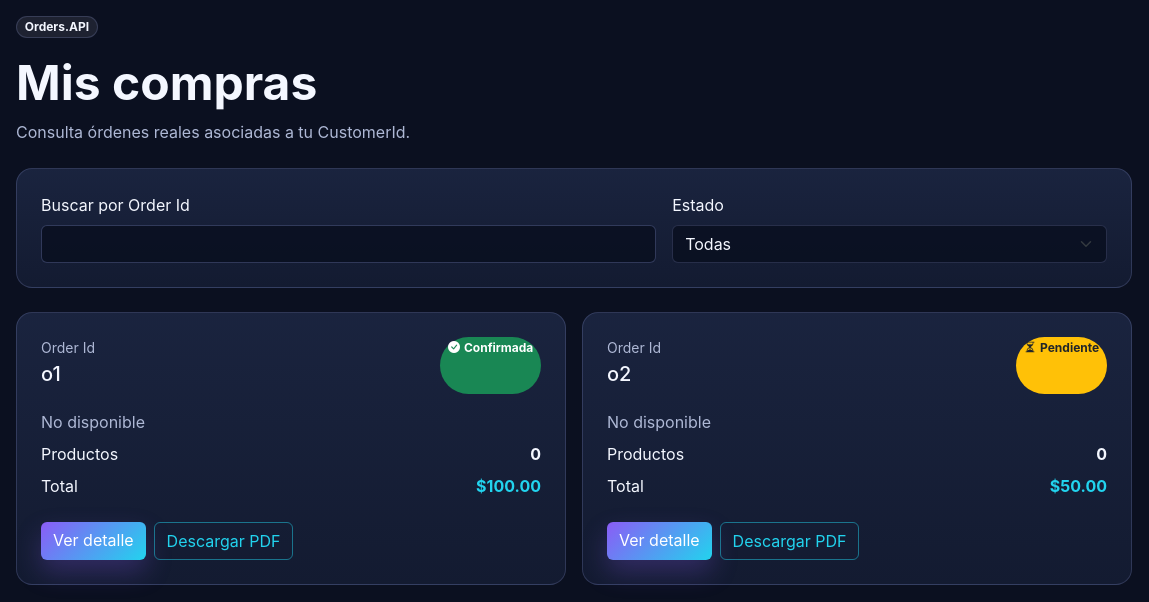
MyOrdersPage › obtiene ordenes reales y filtra por estado
Expected: the heading "o1" is shown, top-left (41, 362), bottom-right (61, 386)
Select "Pendientes" in the dropdown labelled "Estado": [890, 244] box top-left (672, 225), bottom-right (1107, 263)
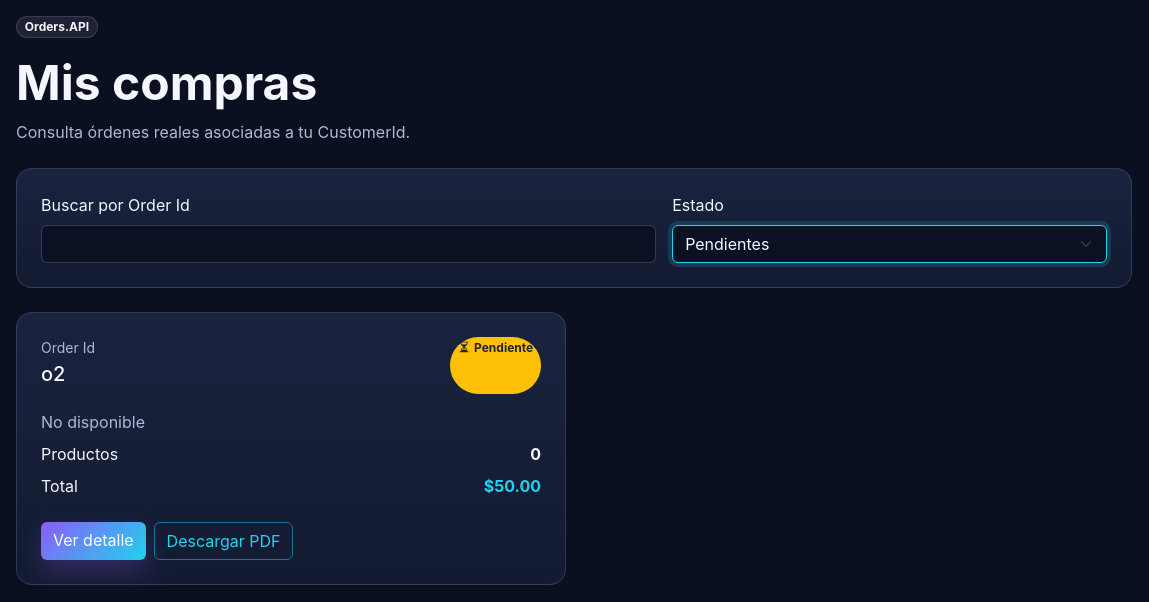
Expected: the heading "o2" is shown, top-left (41, 362), bottom-right (65, 386)
Expected: the heading "o1" is gone
